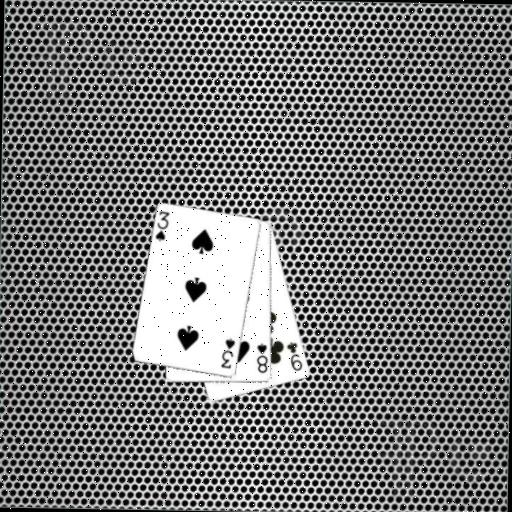3S: (152, 208, 171, 243), (218, 336, 237, 370)
8S: (254, 340, 269, 375)
9C: (284, 339, 305, 373)
